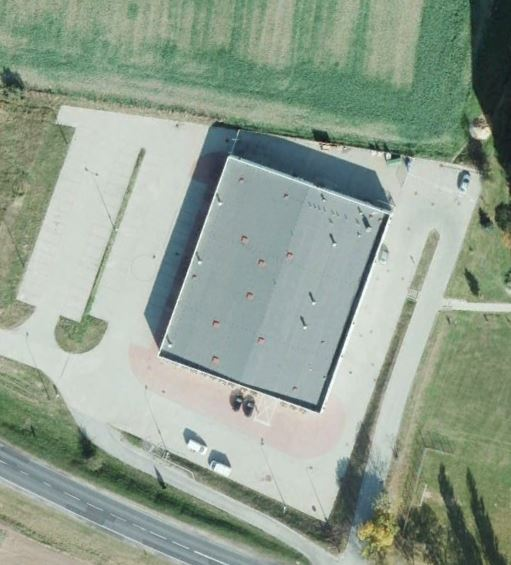shopping_center: (149, 147, 398, 417)
